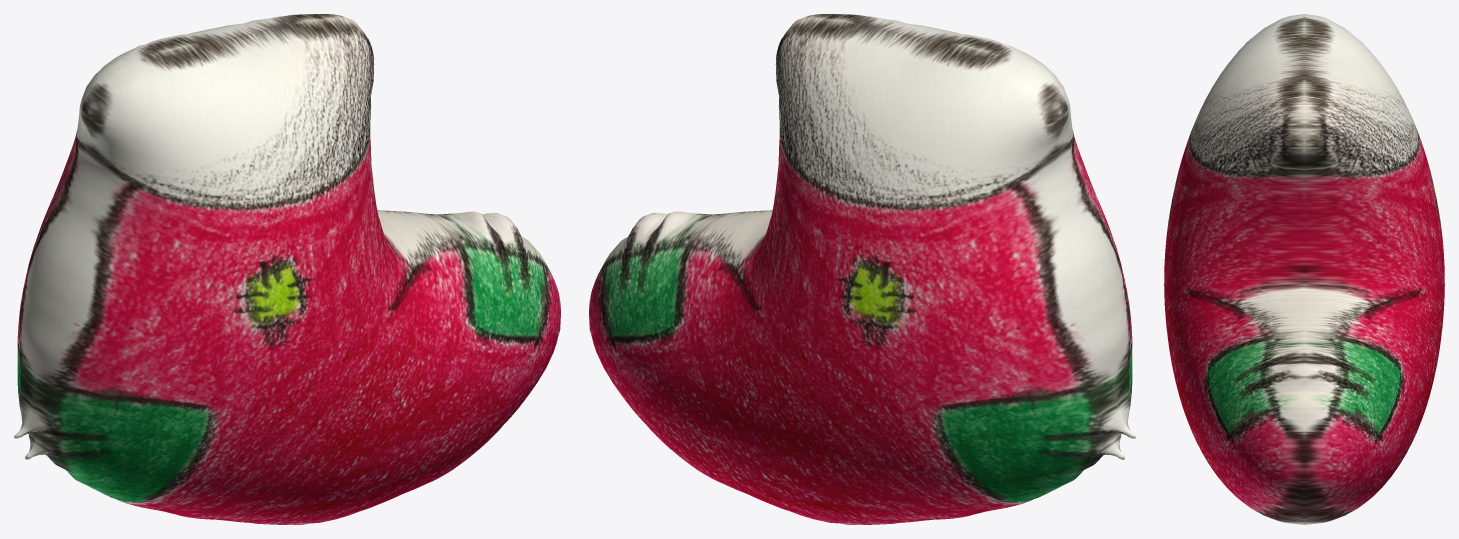
3 views of the same model, side by side, from view 1: azimuth 30°, elevation 25°; view 2: azimuth 150°, elevation 25°; view 3: azimuth 270°, elevation 25° (orthographic). The views are drawn at different scales.
Bounding box in the file's own units: 5.46 × 4.8 × 2.96.
1 material, 1 textured.
